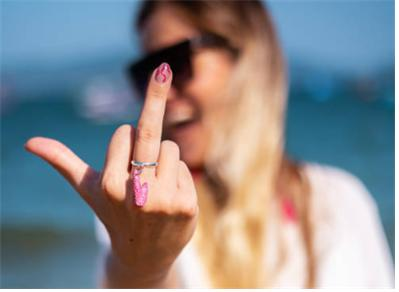insulting_gesture: (21, 62, 198, 292)
